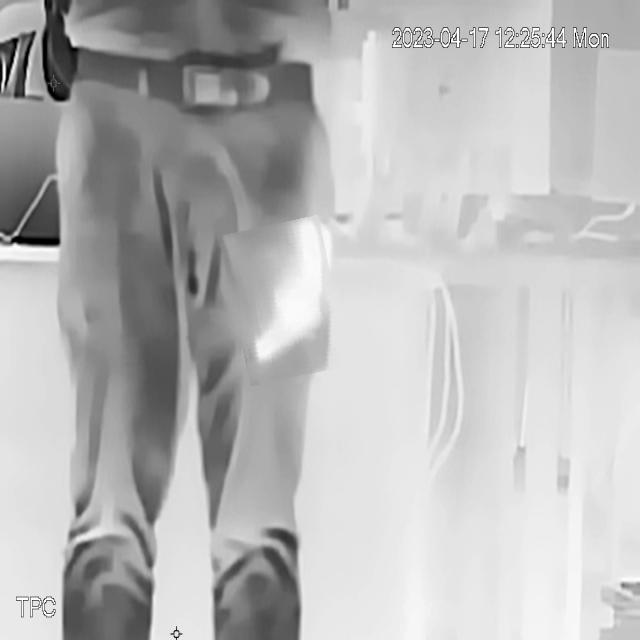Weapon: (226, 220, 344, 382)
